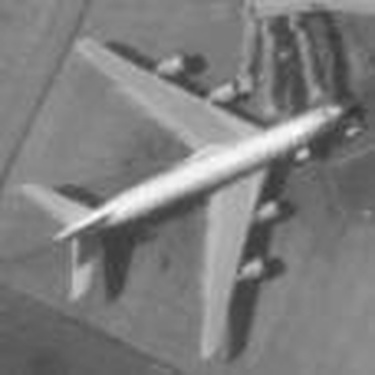airplane: (13, 19, 367, 363)
